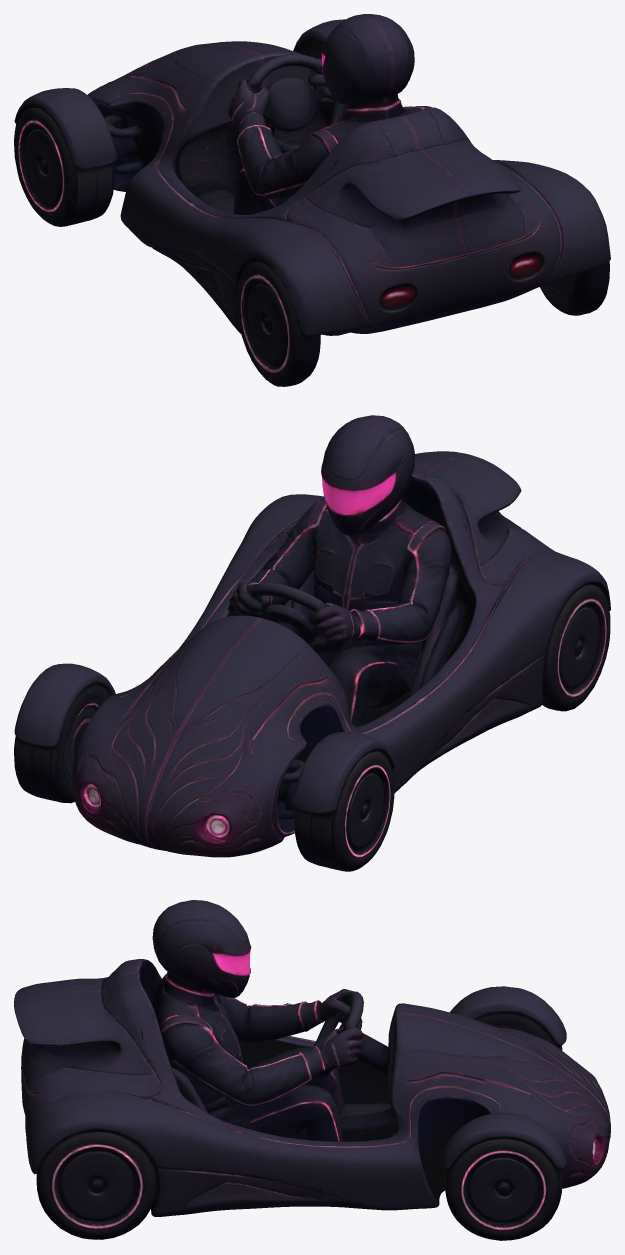
The model's file is cognara-dark.glb.
The picture shows the model from 3 angles, top to bottom: view 1: azimuth 30°, elevation 25°; view 2: azimuth 150°, elevation 25°; view 3: azimuth 270°, elevation 25°; orthographic projection. The views are drawn at different scales.
Parts seen in each view (by area): view 1: chassis; view 2: chassis; view 3: chassis.
Part boxes in pixels (x1,y1,x2,y2): chassis: (14, 14, 610, 386); chassis: (14, 415, 610, 871); chassis: (14, 900, 610, 1240).
Size of the model in its own units: 2.64 by 2.22 by 4.5.
1 material, 1 textured.
